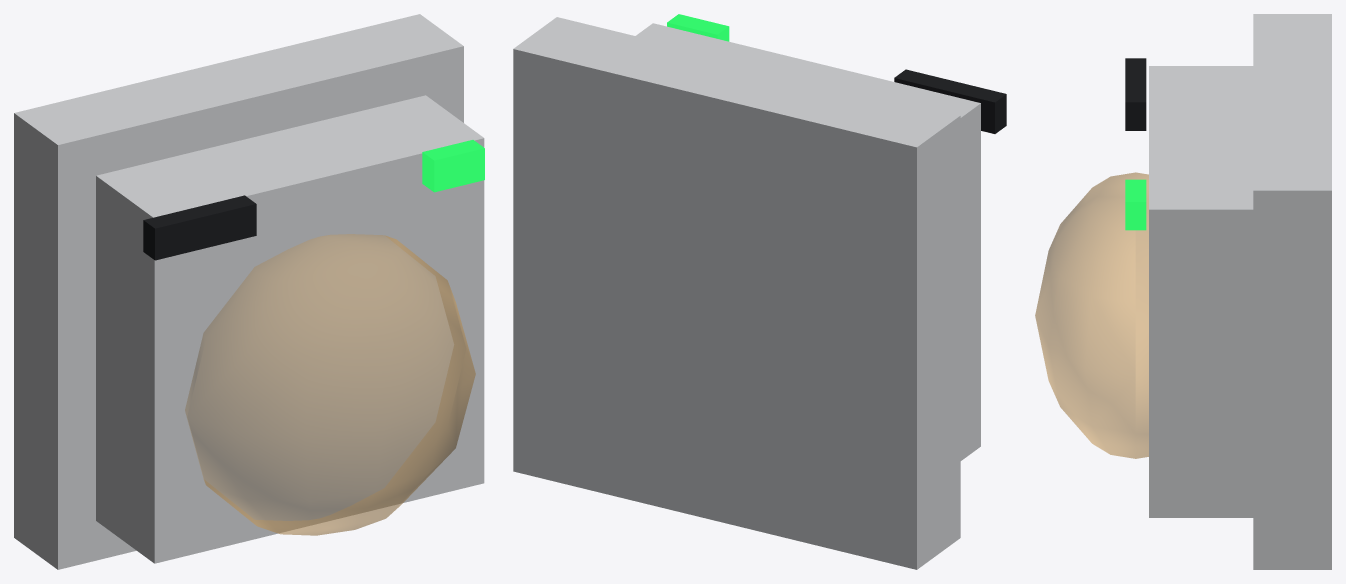
The model's file is camera_motion_sensor.glb.
3 renders of one model, left to right at view 1: azimuth 30°, elevation 25°; view 2: azimuth 150°, elevation 25°; view 3: azimuth 270°, elevation 25°, orthographic. The views are drawn at different scales.
Visible parts, largest first — view 1: camera_motion_sensor; view 2: camera_motion_sensor; view 3: camera_motion_sensor.
Part boxes in pixels (x1,y1,x2,y2): camera_motion_sensor: (14,14,484,569); camera_motion_sensor: (513,14,1006,569); camera_motion_sensor: (1035,14,1331,569).
Size of the model in its own units: 0.16 by 0.16 by 0.1135.
